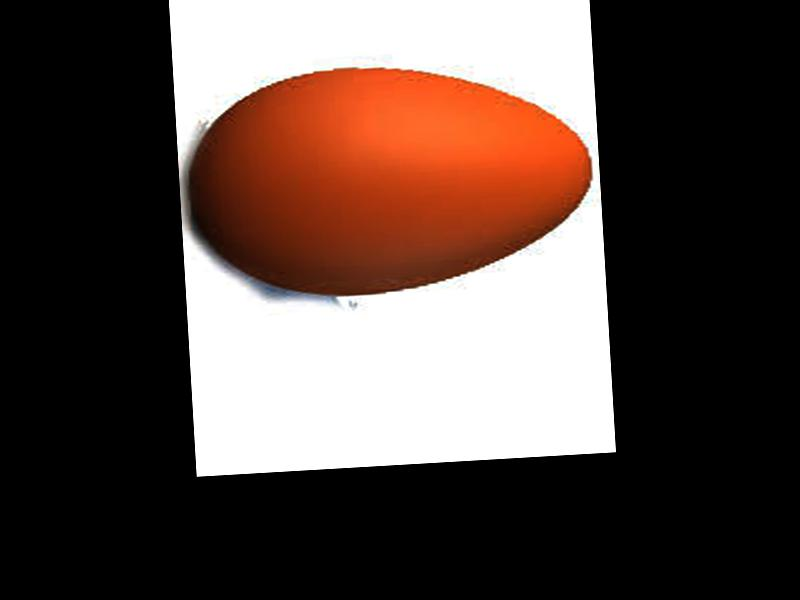Eggs: (183, 54, 595, 303)
